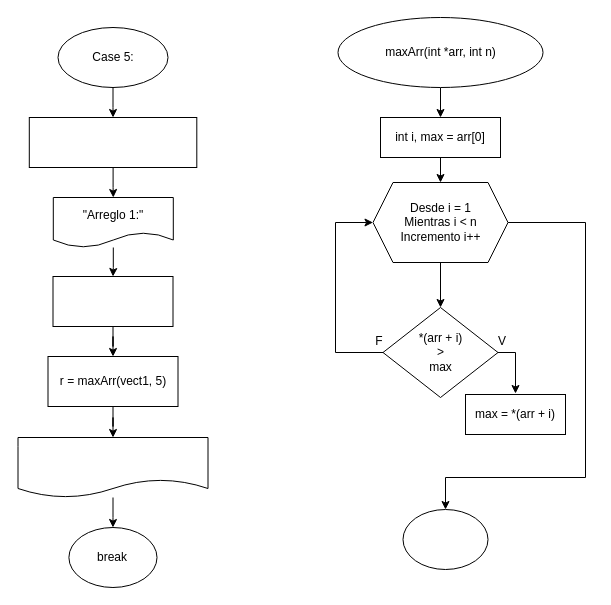
Some shapes in this 611 by 605 pixel diagram are drawn without their labels. Here are the shapes that lost their labels. From the top down, the centre of each, then its label:
point (112, 142): int vect1[] = {4, 7, 1, 5, 9}
point (112, 301): imprArr(vect1, 5)
point (112, 467): "El elemento maximo es: %d\n", r
point (445, 539): return max
